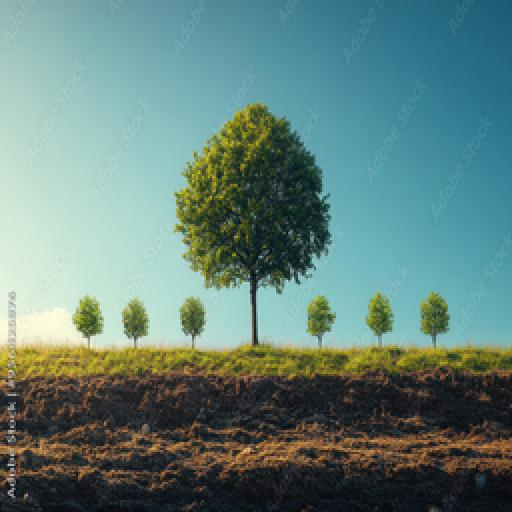trees: (174, 102, 334, 350), (418, 290, 452, 348), (304, 294, 338, 350), (178, 292, 208, 350), (72, 296, 104, 350), (118, 296, 150, 350), (366, 292, 396, 348)
